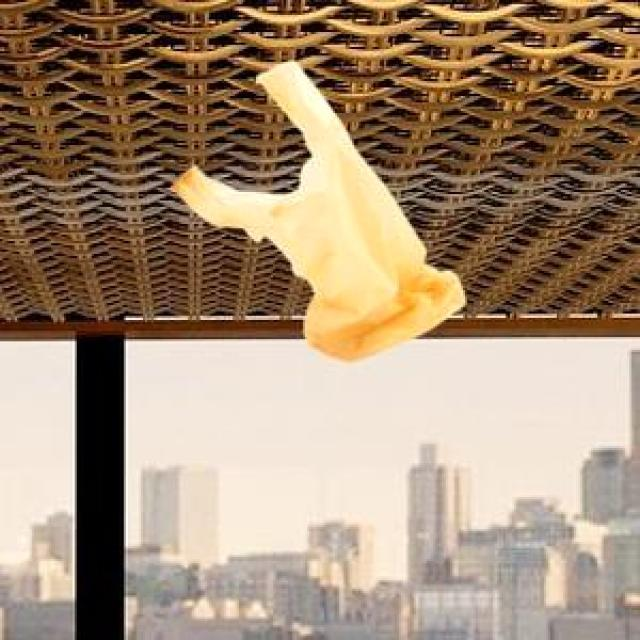Plastic_Bag: (167, 58, 462, 360)
